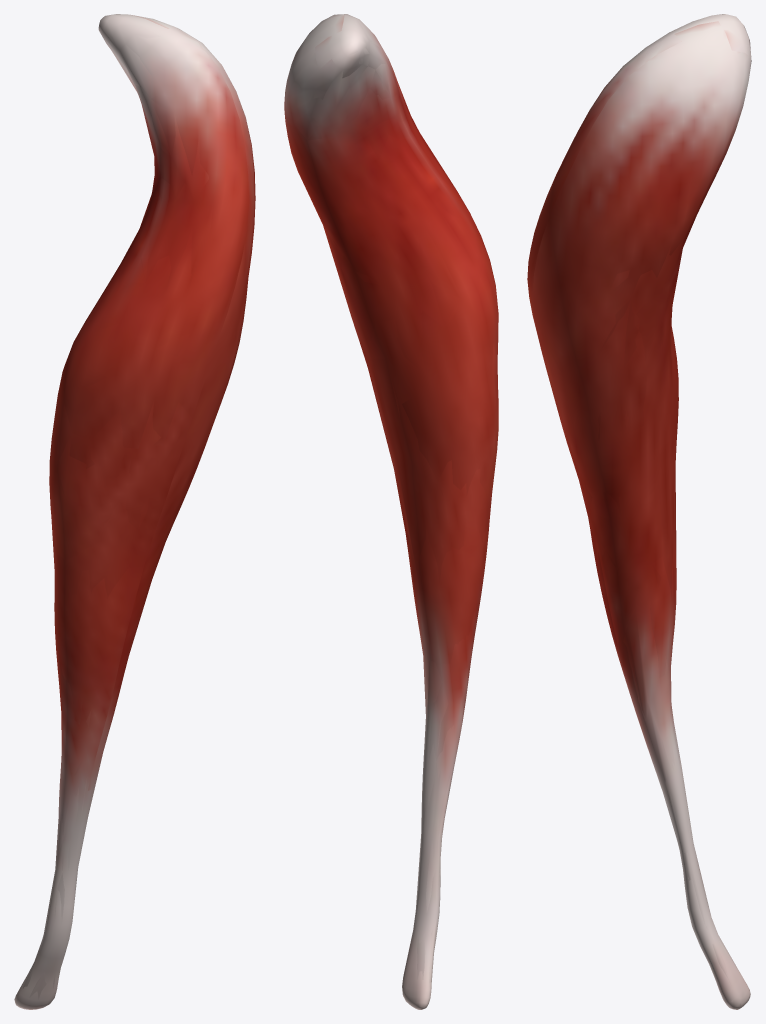
File: L Extensor Carpi Radialis.fbx
The picture shows the model from 3 angles, left to right: view 1: azimuth 30°, elevation 25°; view 2: azimuth 150°, elevation 25°; view 3: azimuth 270°, elevation 25°; orthographic projection. The views are drawn at different scales.
Parts seen in each view (by area): view 1: L Extensor Carpi Radialis, L Extensor Carpi Radialis low; view 2: L Extensor Carpi Radialis low, L Extensor Carpi Radialis; view 3: L Extensor Carpi Radialis, L Extensor Carpi Radialis low.
Boxes of the visible parts, left/top/right/bottom form: L Extensor Carpi Radialis: left=14, top=14, right=255, bottom=1009; L Extensor Carpi Radialis low: left=21, top=16, right=249, bottom=999; L Extensor Carpi Radialis low: left=284, top=14, right=498, bottom=1006; L Extensor Carpi Radialis: left=284, top=14, right=498, bottom=1009; L Extensor Carpi Radialis: left=527, top=14, right=751, bottom=1009; L Extensor Carpi Radialis low: left=529, top=21, right=750, bottom=1007.
Bounding box in the file's own units: 11.37 × 55.31 × 10.9.
